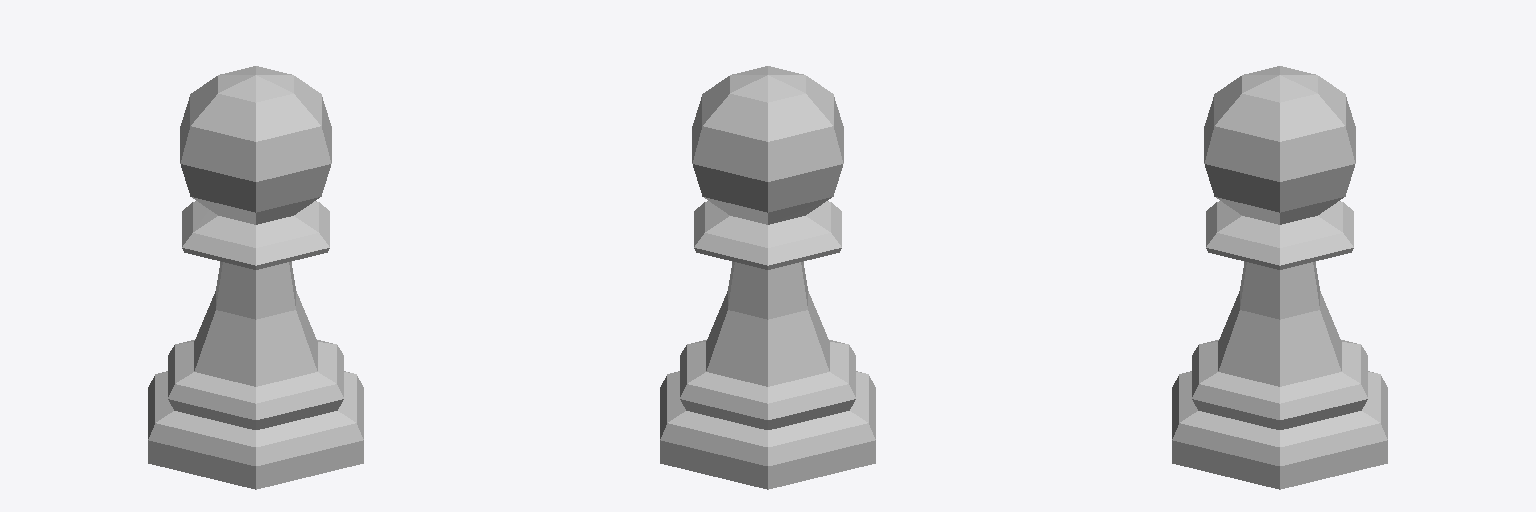
File: peon.obj
3 views of the same model, side by side, from view 1: azimuth 30°, elevation 25°; view 2: azimuth 150°, elevation 25°; view 3: azimuth 270°, elevation 25° (orthographic).
Parts seen in each view (by area): view 1: polySurface1 ImageToStl_com_chessset1:Mesh; view 2: polySurface1 ImageToStl_com_chessset1:Mesh; view 3: polySurface1 ImageToStl_com_chessset1:Mesh.
Part boxes in pixels (x1,y1,x2,y2): polySurface1 ImageToStl_com_chessset1:Mesh: (148,66,363,489); polySurface1 ImageToStl_com_chessset1:Mesh: (660,66,875,489); polySurface1 ImageToStl_com_chessset1:Mesh: (1172,66,1387,489).
Bounding box in the file's own units: 0.7559 × 1.21 × 0.6546.